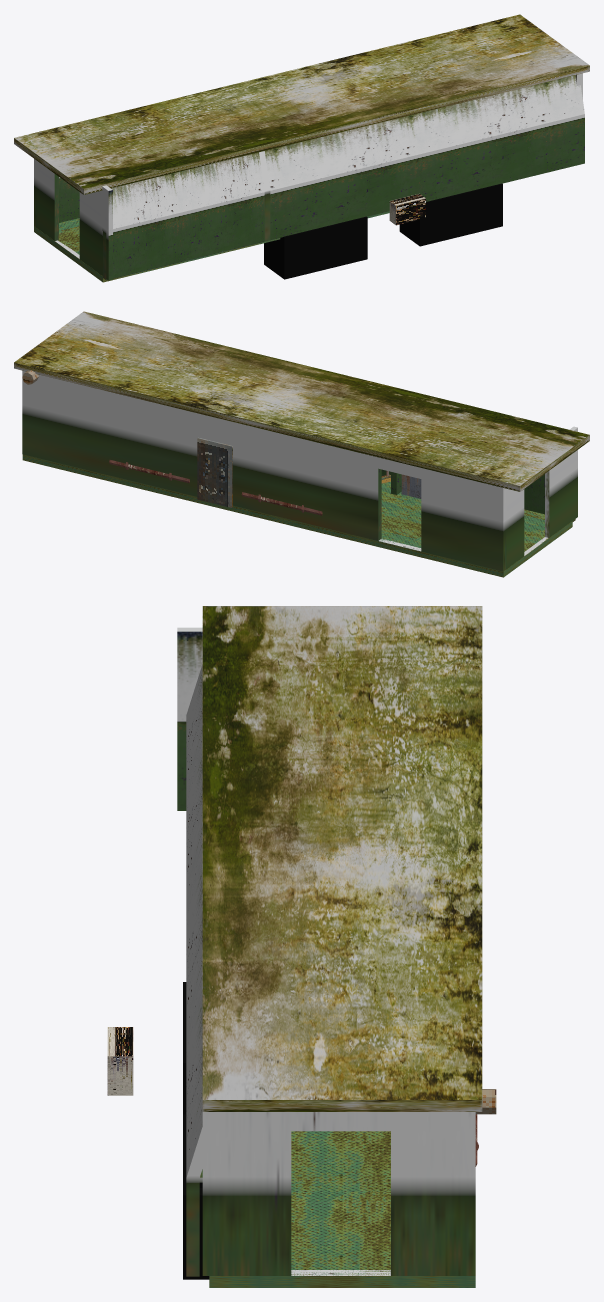
The model's file is corridor.fbx.
3 renders of one model, top to bottom at view 1: azimuth 30°, elevation 25°; view 2: azimuth 150°, elevation 25°; view 3: azimuth 270°, elevation 25°, orthographic. The views are drawn at different scales.
Parts seen in each view (by area): view 1: wall_exterior, ceiling, wall_interior, Cube.008, Cube.009, floor, wall_interior.003; view 2: wall_interior, ceiling, floor, screen, wall_exterior, desk, reservoir, reservoir.001; view 3: ceiling, wall_interior, floor, wall_exterior, wall_interior.003, Cube.009.
Part boxes in pixels (x1,y1,x2,y2): wall_exterior: (98,75,584,280); ceiling: (14,14,589,194); wall_interior: (34,73,582,280); Cube.008: (264,216,367,279); Cube.009: (399,183,502,246); floor: (34,211,389,282); wall_interior.003: (389,193,425,225); wall_interior: (22,370,577,571); ceiling: (14,311,589,491); floor: (22,454,572,577); screen: (197,437,232,507); wall_exterior: (381,469,575,521); desk: (401,474,421,498); reservoir: (241,492,322,515); reservoir.001: (109,460,189,483); ceiling: (202,606,482,1111); wall_interior: (177,627,475,1275); floor: (209,1131,475,1287); wall_exterior: (186,664,202,1276); wall_interior.003: (107,1027,133,1095); Cube.009: (183,1114,209,1279).
Size of the model in its own units: 1757 by 447 by 584.
Materials: 22 (20 with a texture image).
